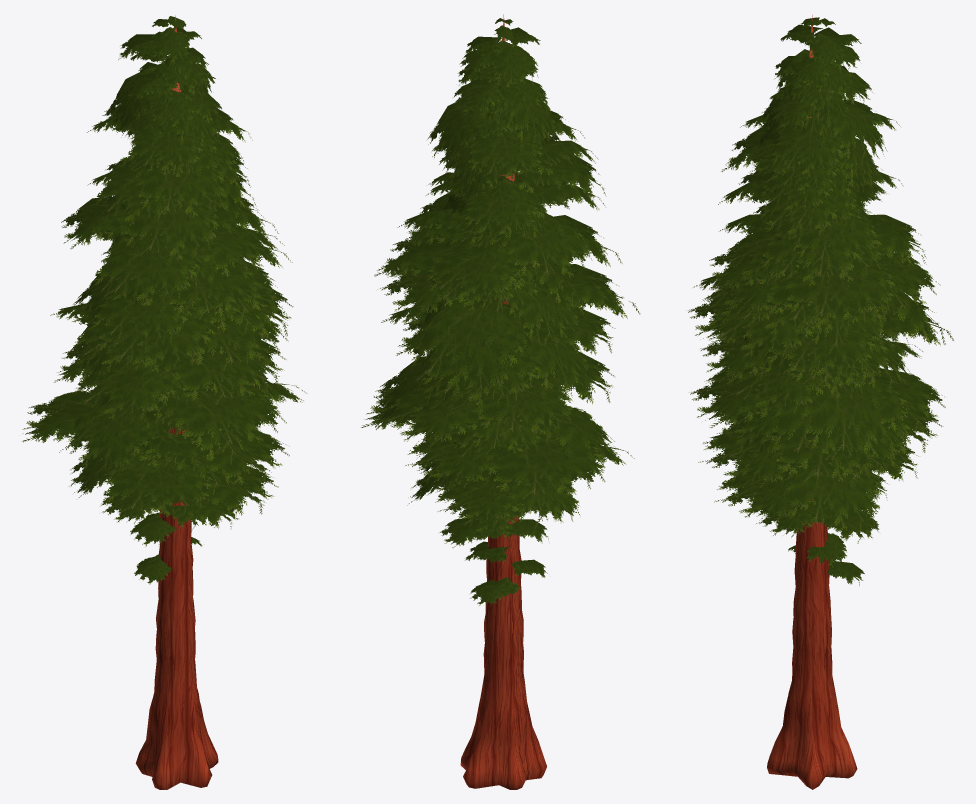
File: sequoia_m3.gltf
3 renders of one model, left to right at view 1: azimuth 30°, elevation 25°; view 2: azimuth 150°, elevation 25°; view 3: azimuth 270°, elevation 25°, orthographic.
Visible parts, largest first — view 1: sequoia_m3; view 2: sequoia_m3; view 3: sequoia_m3.
Boxes of the visible parts, bbox=[...] form: sequoia_m3: bbox=[22, 15, 307, 789]; sequoia_m3: bbox=[361, 14, 640, 789]; sequoia_m3: bbox=[688, 15, 953, 789].
Bounding box in the file's own units: 7.21 × 19 × 6.47.
Materials: 2 (2 with a texture image).
